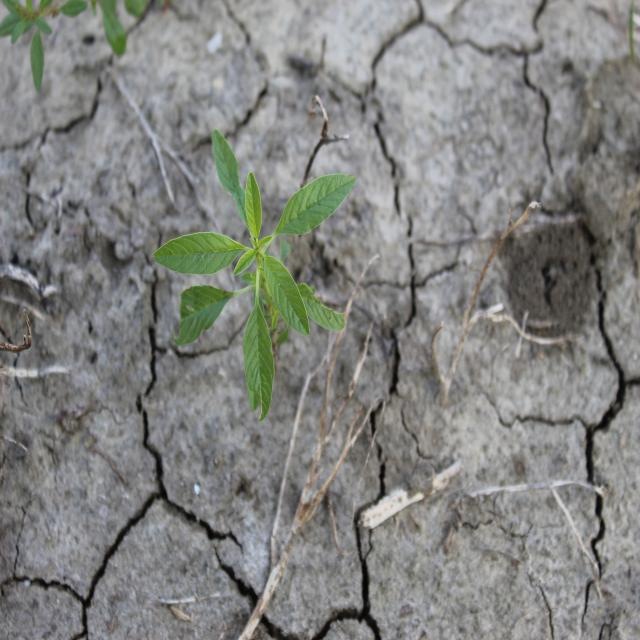Waterhemp: (153, 129, 357, 424), (2, 1, 148, 94)
